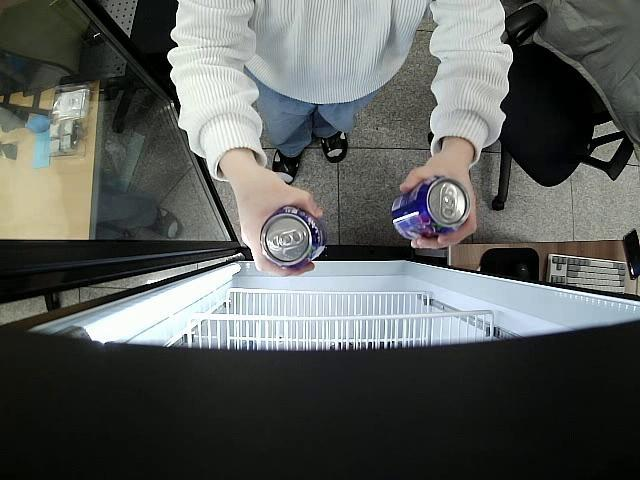14_welchsGrape: (390, 178, 472, 238), (259, 205, 328, 270)
